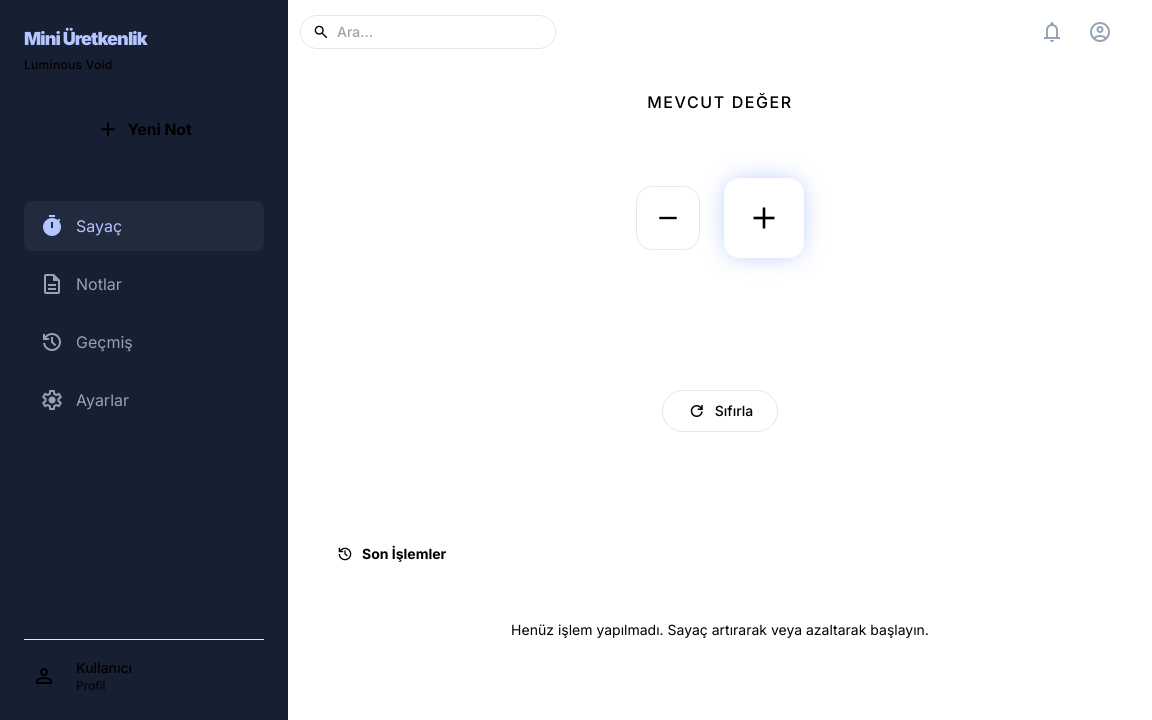
Scenario: SayacEkrani › Sıfırla butonu onay modalı açar
(page scrolled)
Click the button "Sıfırla": (720, 411) [662,390,778,432]
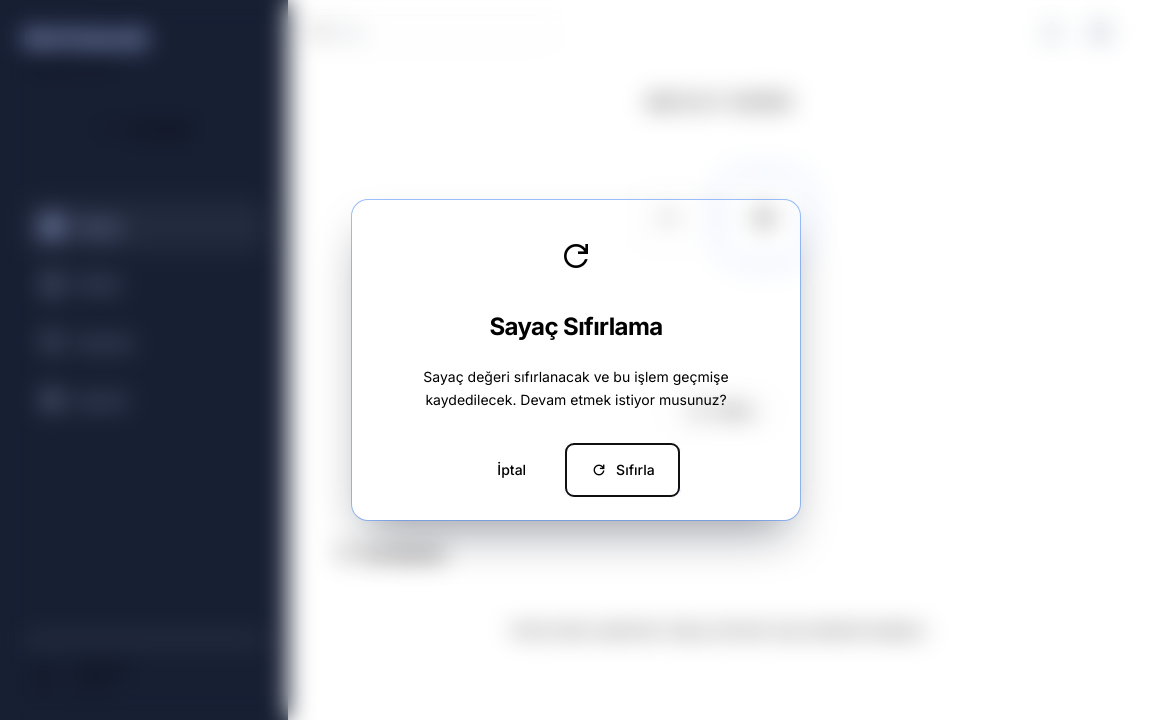
Expected: the heading "Sayaç Sıfırlama" is shown, [490,312,663,342]
